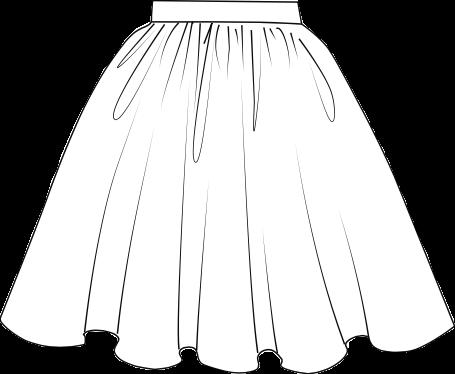Hemline: (0, 315, 454, 373)
Waistline: (150, 19, 304, 24), (152, 0, 299, 3)
